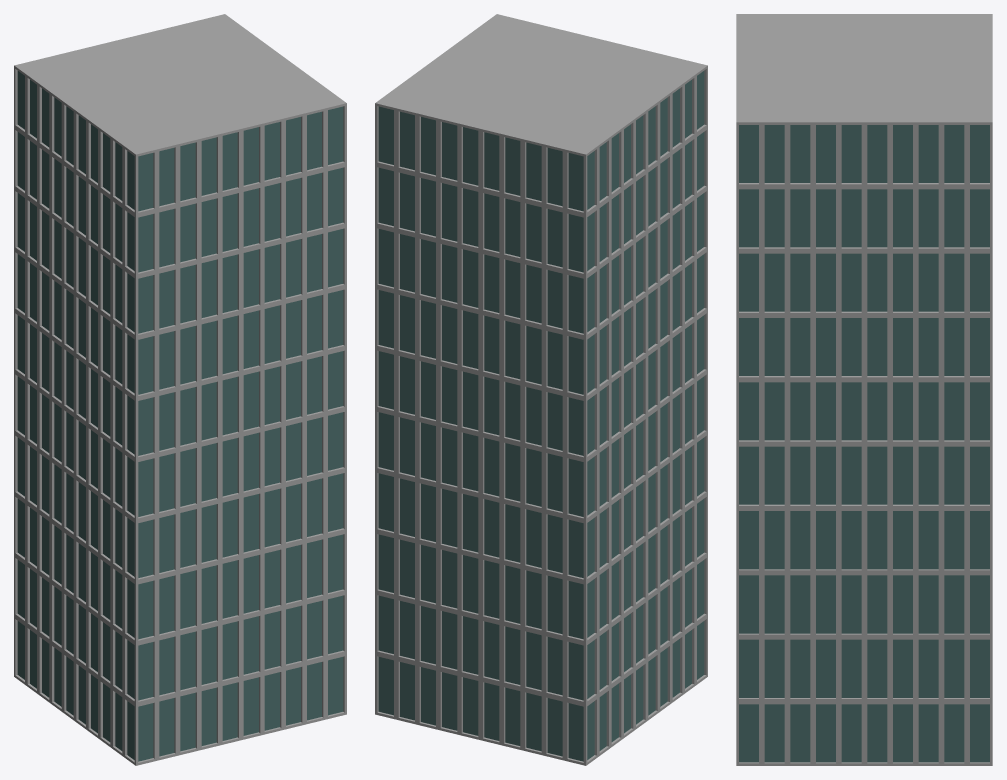
The model's file is BildingsLast.fbx.
3 renders of one model, left to right at view 1: azimuth 30°, elevation 25°; view 2: azimuth 150°, elevation 25°; view 3: azimuth 270°, elevation 25°, orthographic. The views are drawn at different scales.
Visible parts, largest first — view 1: Build; view 2: Build; view 3: Build.
Boxes of the visible parts, x1,y1,x2,y2 form: Build: [14, 14, 346, 765]; Build: [375, 14, 707, 765]; Build: [736, 14, 992, 765].
Bounding box in the file's own units: 0.9129 × 2.53 × 0.9129.
